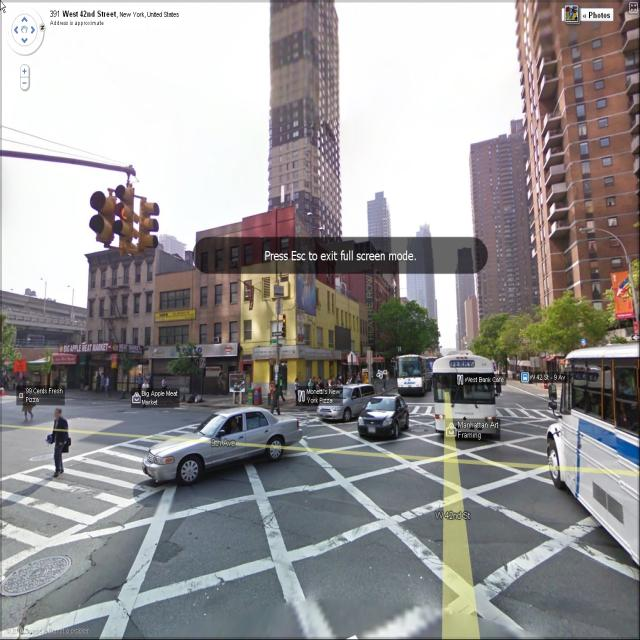b_1: (516, 9, 640, 280), (469, 131, 561, 363), (242, 216, 362, 390), (266, 3, 344, 241), (81, 224, 193, 375), (186, 211, 252, 385), (146, 272, 203, 388), (404, 224, 446, 322), (354, 190, 398, 262), (451, 247, 476, 346)
b_2: (475, 276, 620, 394), (358, 290, 442, 393)
